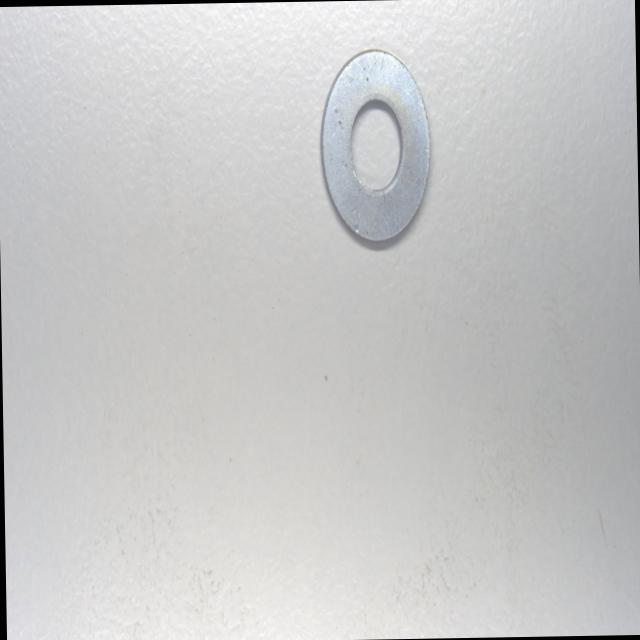washer: (318, 46, 434, 244)
